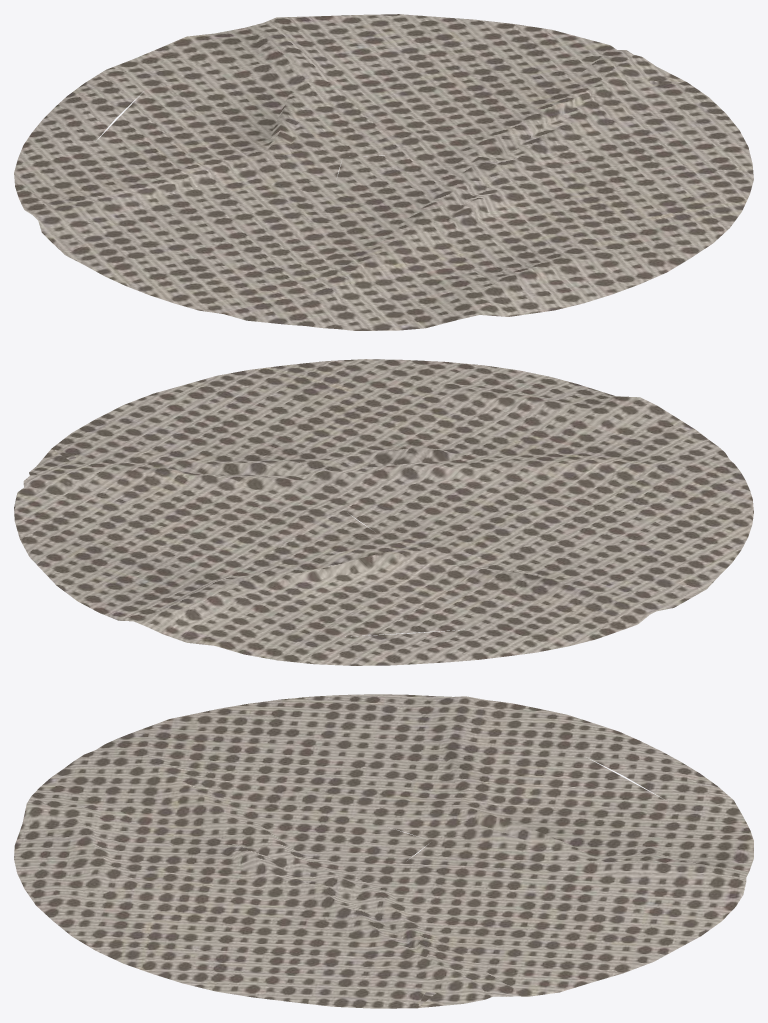
The model's file is Carpet0027.obj.
The picture shows the model from 3 angles, top to bottom: view 1: azimuth 30°, elevation 25°; view 2: azimuth 150°, elevation 25°; view 3: azimuth 270°, elevation 25°; orthographic projection.
Bounding box in the file's own units: 2.11 × 0.045 × 2.09.
Materials: 1 (1 with a texture image).
